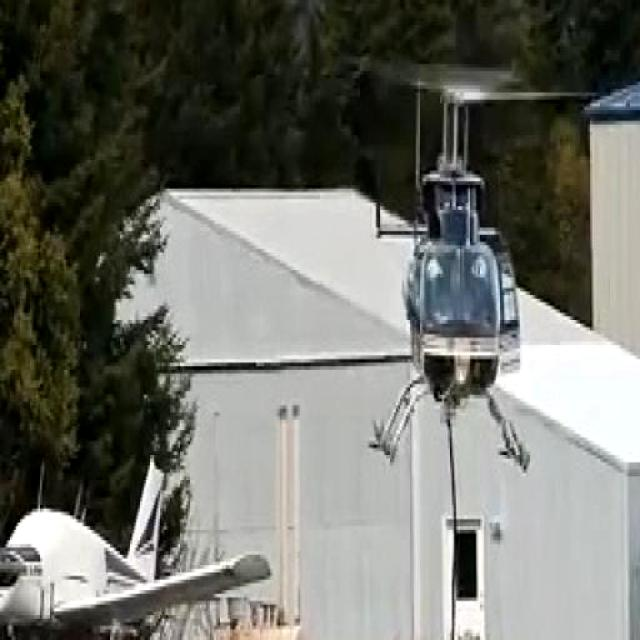0: (0, 452, 279, 640)
drone: (312, 25, 609, 485)
